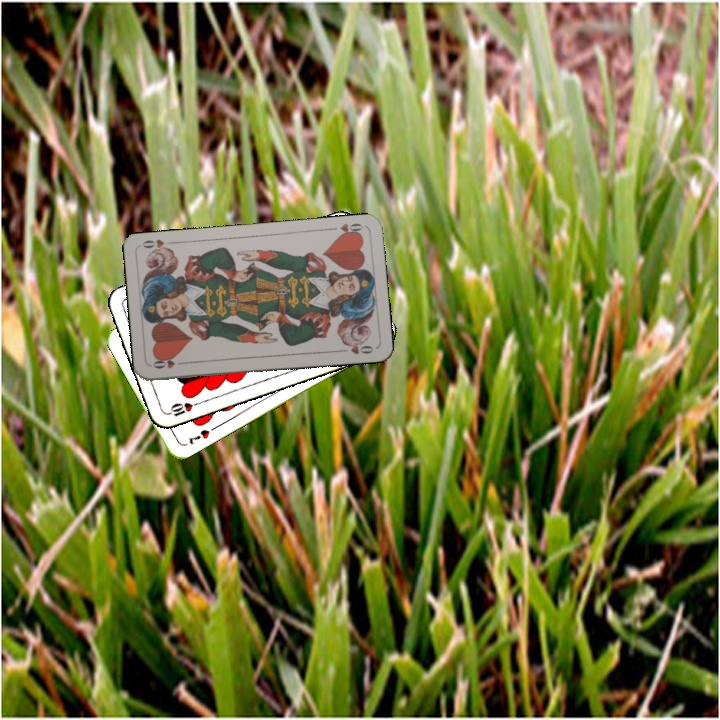H10: (162, 398, 202, 419)
H7: (184, 425, 212, 447)
HO: (326, 219, 365, 239), (149, 355, 189, 371)
